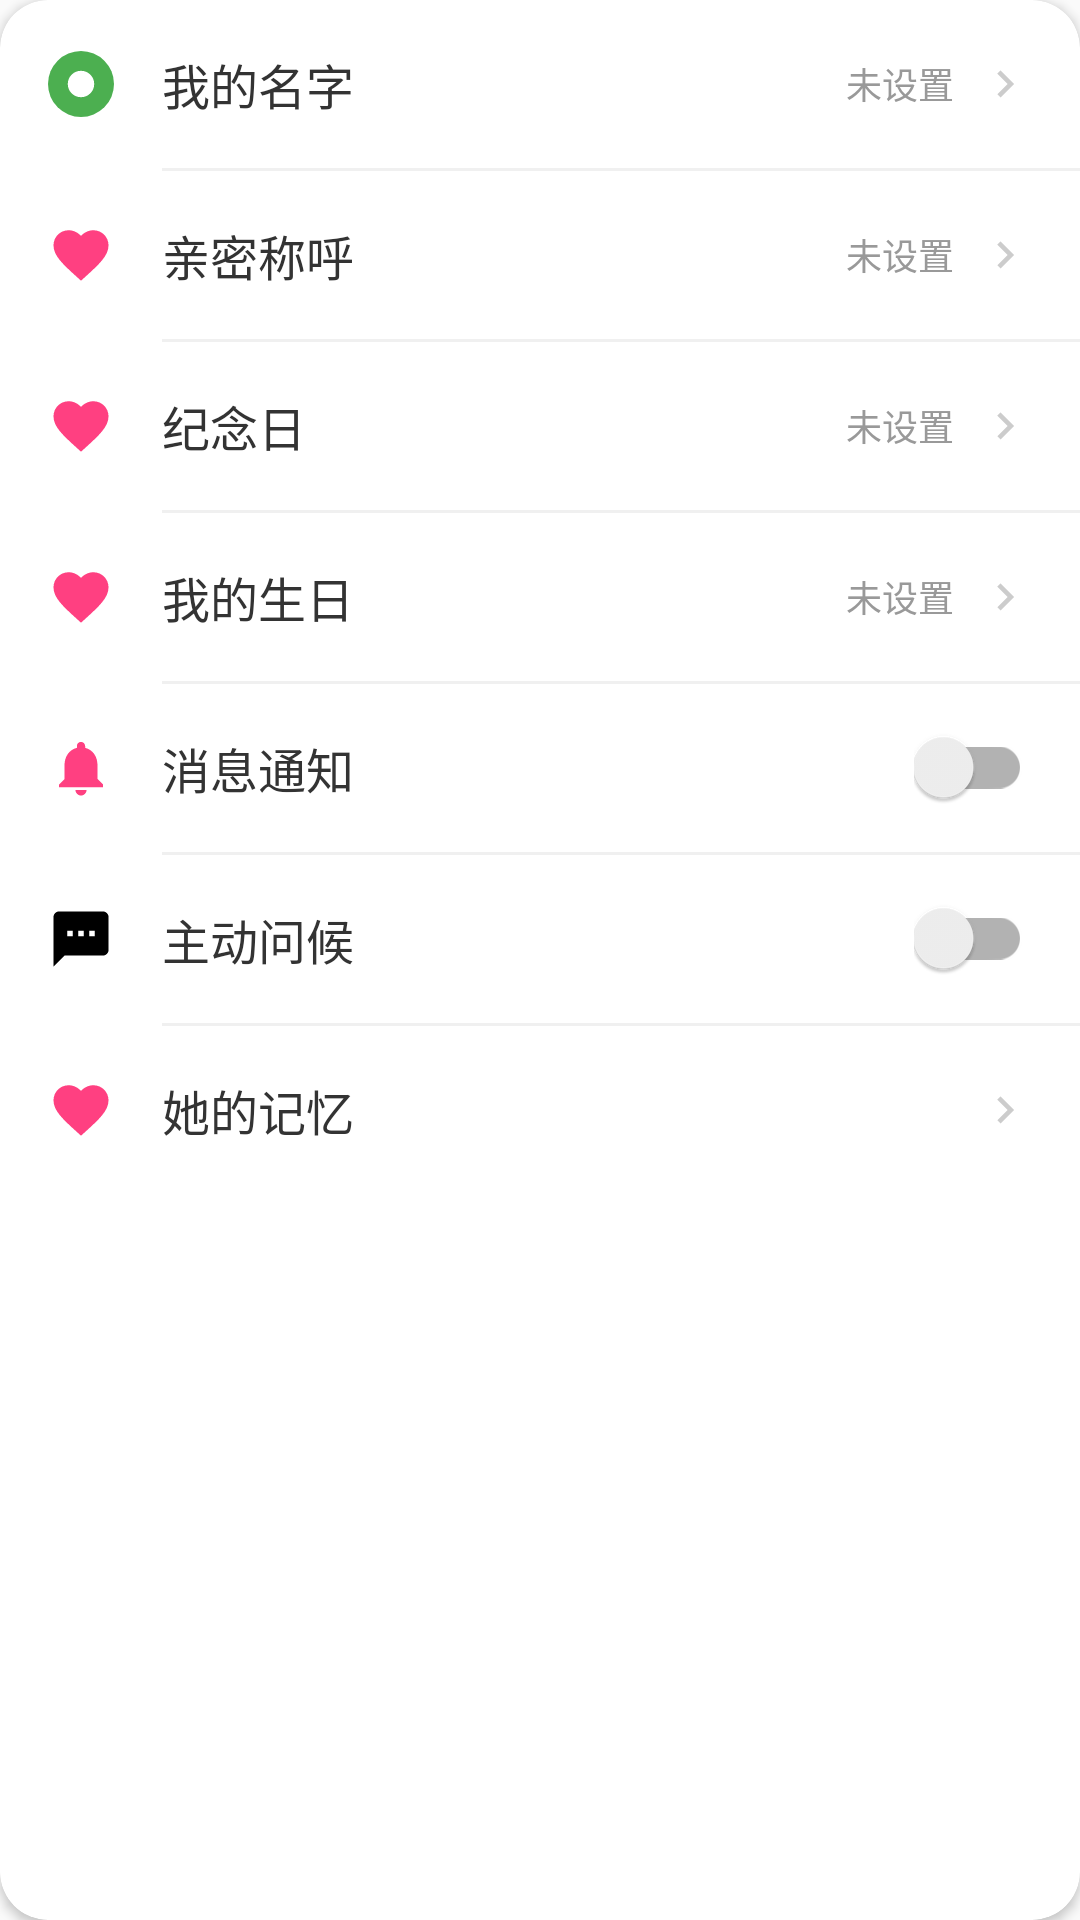

Icon click points for this 1080w x 1920h phone screenshot, format point (x, y):
chat: point (81, 939)
chevron right: point (1005, 84), point (1005, 255), point (1005, 426), point (1005, 597), point (1005, 1110)
heart: point (81, 255), point (81, 426), point (81, 597), point (81, 1110)
notify: point (81, 769)
